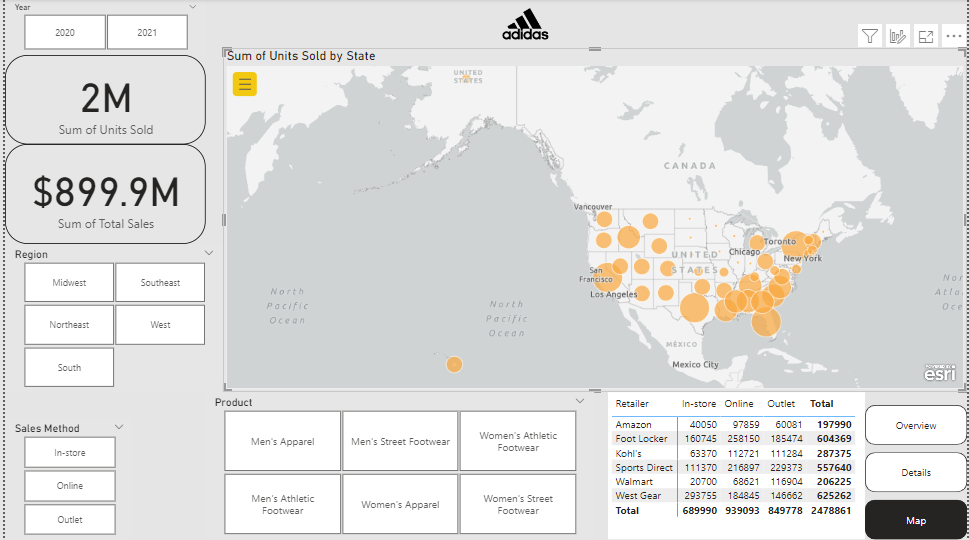

The dashboard page shown, as its layout file describes it:
{"tool":"powerbi","page":{"name":"Map","canvas":[1280,720],"ordinal":3},"visuals":[{"type":"pivotTable","fields":{"Values":["Sum(Data Sales Adidas.Units Sold)"],"Rows":["Data Sales Adidas.Retailer"],"Columns":["Data Sales Adidas.Sales Method"]},"box":[802.8,523.6,341.7,195.8],"z":0},{"type":"esriVisual","fields":{"Location":["Data Sales Adidas.State"],"Size":["Sum(Data Sales Adidas.Units Sold)"]},"box":[290.1,65.2,990.2,457.8],"z":1000},{"type":"actionButton","box":[0,0,100,40],"z":2000},{"type":"slicer","fields":{"Values":["Data Sales Adidas.Region"]},"box":[0,326.2,290.4,196.8],"z":3000},{"type":"slicer","fields":{"Values":["Data Sales Adidas.Product"]},"box":[266.7,523.6,518.1,195.8],"z":4000},{"type":"slicer","fields":{"Values":["Data Sales Adidas.Sales Method"]},"box":[0,557.4,170.7,162.4],"z":5000},{"type":"card","fields":{"Values":["Sum(Data Sales Adidas.Total Sales)"]},"box":[0,192.9,267.1,132.9],"z":6000},{"type":"card","fields":{"Values":["Sum(Data Sales Adidas.Units Sold)"]},"box":[0,74.3,267.1,118.6],"z":7000},{"type":"pageNavigator","box":[1144.4,540.3,136.1,179.2],"z":8000},{"type":"slicer","fields":{"Values":["Data Sales Adidas.Year.Variation.Date Hierarchy.Year"]},"box":[0,0,267.1,74.3],"z":9000},{"type":"image","box":[640,0,105.3,65.3],"z":10000}]}

Visuals, with their boxes on the page's 1280x720 design canvas (x1, y1, x2, y2). These are canvas units, not pixel positions in the 969x540 screenshot, which may show the page scaled, cropped or inside an application window:
pivotTable - Sum(Data Sales Adidas.Units Sold) x Data Sales Adidas.Retailer: x1=803, y1=524, x2=1144, y2=719
esriVisual - Data Sales Adidas.State x Sum(Data Sales Adidas.Units Sold): x1=290, y1=65, x2=1280, y2=523
actionButton: x1=0, y1=0, x2=100, y2=40
slicer - Data Sales Adidas.Region: x1=0, y1=326, x2=290, y2=523
slicer - Data Sales Adidas.Product: x1=267, y1=524, x2=785, y2=719
slicer - Data Sales Adidas.Sales Method: x1=0, y1=557, x2=171, y2=720
card - Sum(Data Sales Adidas.Total Sales): x1=0, y1=193, x2=267, y2=326
card - Sum(Data Sales Adidas.Units Sold): x1=0, y1=74, x2=267, y2=193
pageNavigator: x1=1144, y1=540, x2=1280, y2=720
slicer - Data Sales Adidas.Year.Variation.Date Hierarchy.Year: x1=0, y1=0, x2=267, y2=74
image: x1=640, y1=0, x2=745, y2=65
